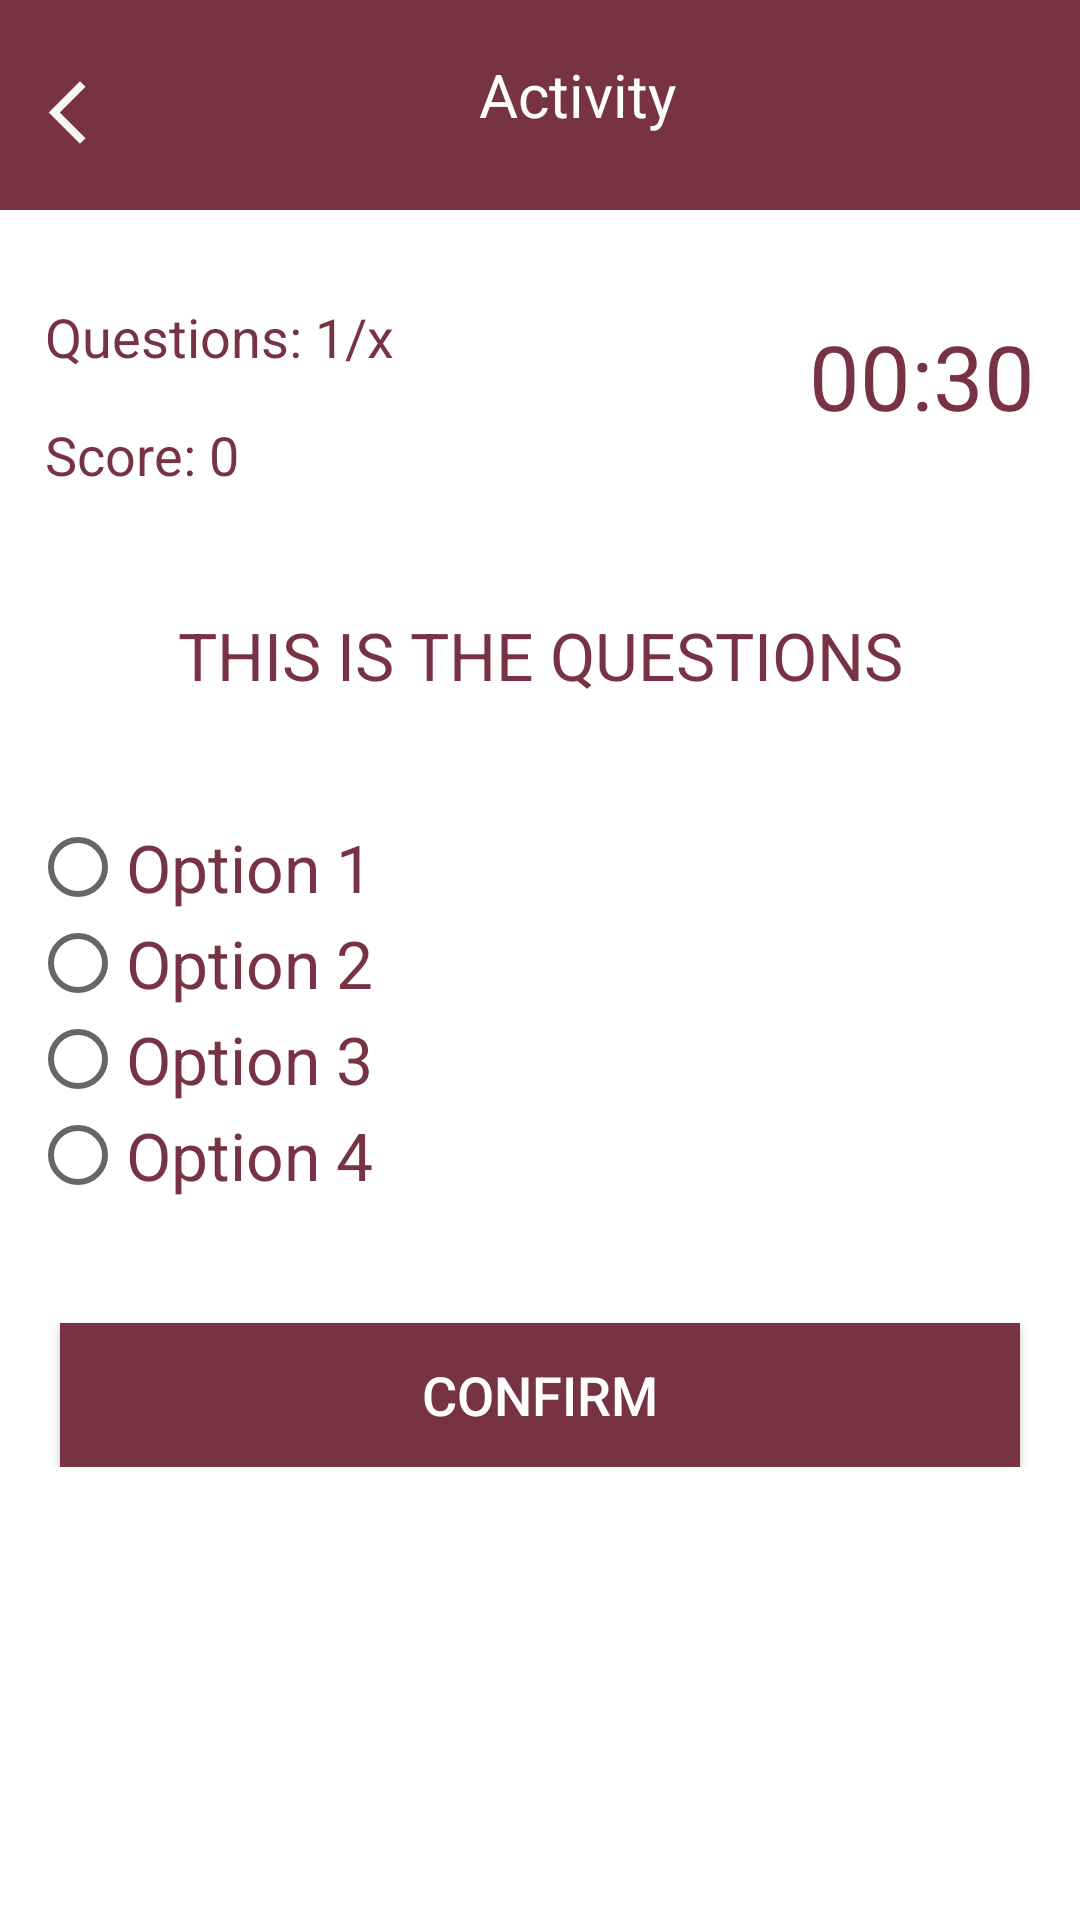

Named icons in this screenshot (1080x1920) and their centers, (x,y):
previousarrow: (67,112)
